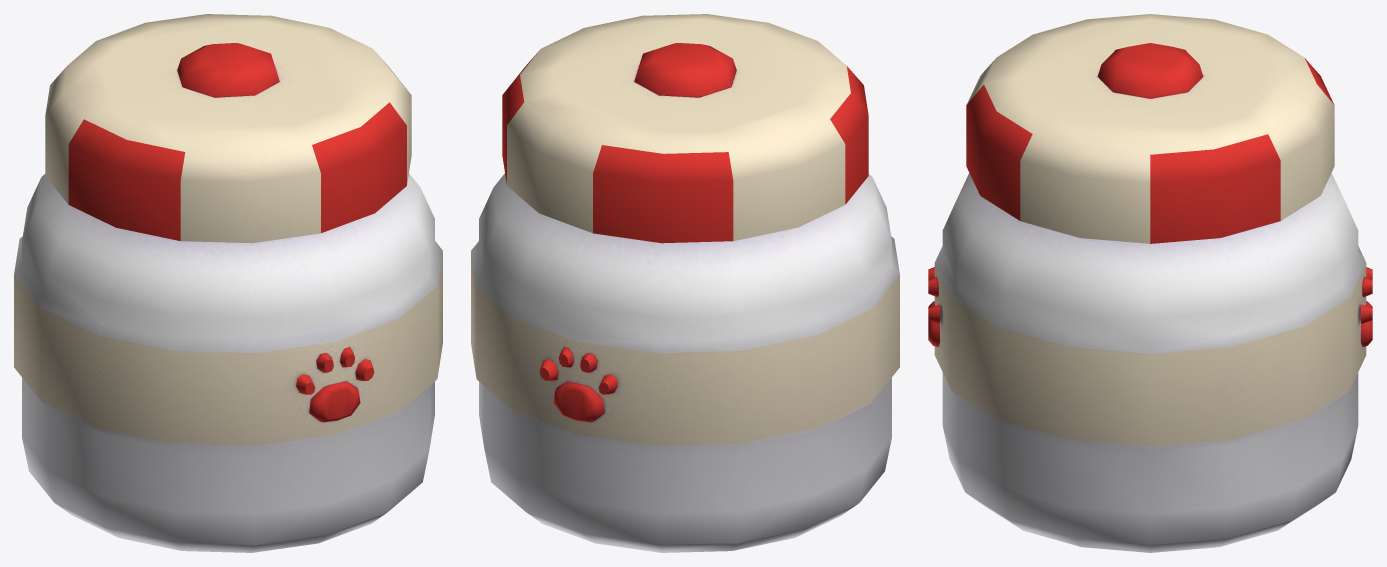
The model's file is pl_kavanoz.glb.
3 renders of one model, left to right at view 1: azimuth 30°, elevation 25°; view 2: azimuth 150°, elevation 25°; view 3: azimuth 270°, elevation 25°, orthographic.
Parts seen in each view (by area): view 1: pl_kavanoz; view 2: pl_kavanoz; view 3: pl_kavanoz.
Part boxes in pixels (x1,y1,x2,y2): pl_kavanoz: (14, 14, 442, 552); pl_kavanoz: (471, 14, 899, 552); pl_kavanoz: (928, 14, 1372, 552).
Size of the model in its own units: 1.51 by 1.62 by 1.55.
1 material, 1 textured.
